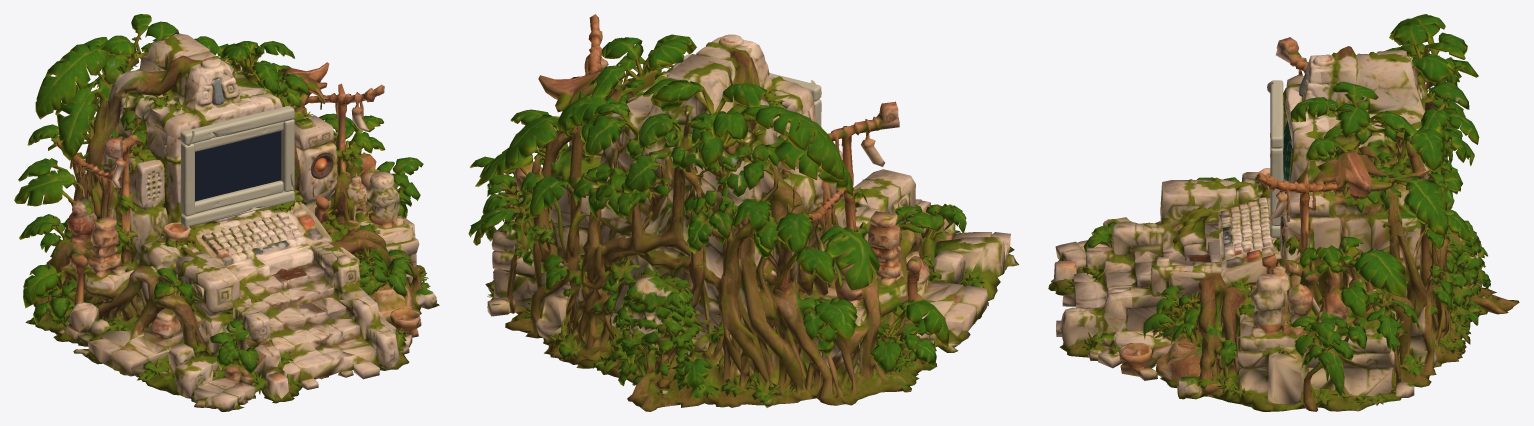
File: JungleComputer_A_screen.v2.glb
The picture shows the model from 3 angles, left to right: view 1: azimuth 30°, elevation 25°; view 2: azimuth 150°, elevation 25°; view 3: azimuth 270°, elevation 25°; orthographic projection. The views are drawn at different scales.
Visible parts, largest first — view 1: JungleComputer, kfb_screen_frame, kfb_screen_slot; view 2: JungleComputer, kfb_screen_frame; view 3: JungleComputer, kfb_screen_frame.
Part boxes in pixels (x1,y1,x2,y2): JungleComputer: (14,14,439,411); kfb_screen_frame: (180,106,294,226); kfb_screen_slot: (195,131,281,201); JungleComputer: (468,14,1018,411); kfb_screen_frame: (683,54,821,126); JungleComputer: (1048,14,1519,411); kfb_screen_frame: (1267,80,1283,237).
Size of the model in its own units: 1.87 by 1.11 by 1.79.
Materials: 4 (2 with a texture image).
